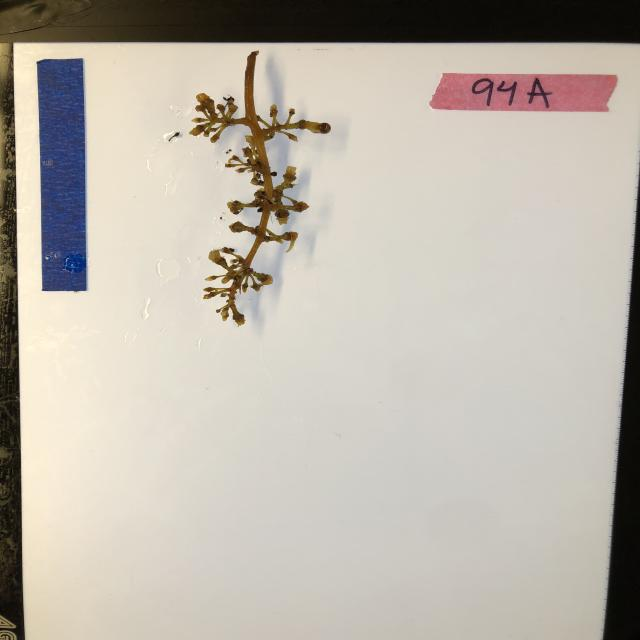index: (427, 70, 618, 112)
measure_label: (35, 58, 90, 292)
rachis_cluster: (189, 47, 335, 329)
